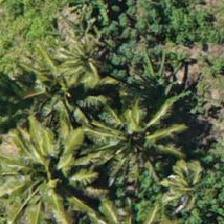coconut_tree: (8, 129, 98, 219), (24, 52, 114, 142), (94, 99, 184, 189)
